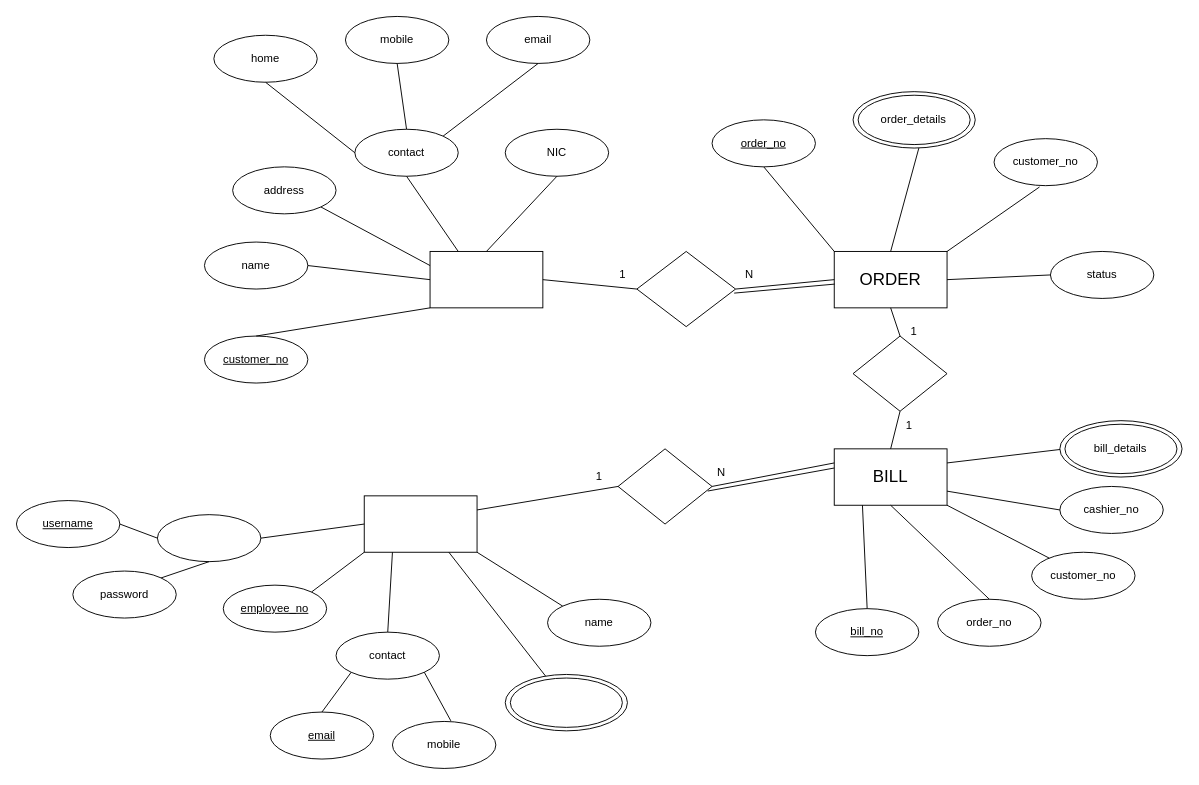
The diagram is 1199 pixels wide and 785 high, and some of its shapes have lost their labels. Here are the shapes that lost their labels. From the top down, the centre of each, then its label:
point (486, 279): CUSTOMER
point (686, 289): Place
point (899, 373): Generate
point (664, 486): Create
point (209, 538): login
point (420, 523): EMPLOYEE
point (565, 702): employee_details
